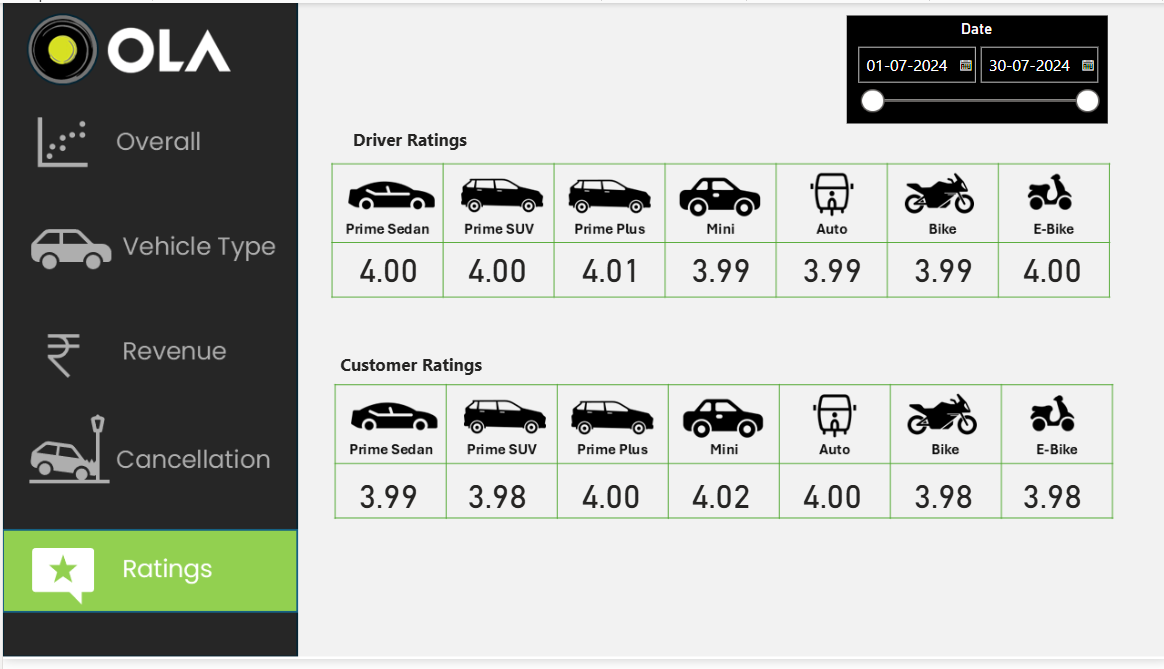

Layout of this report page (visuals, bound fields, positions):
{"tool":"powerbi","page":{"name":"Ratings","canvas":[1280,720],"ordinal":4},"visuals":[{"type":"actionButton","box":[0,219.6,322.1,94.1],"z":0},{"type":"actionButton","box":[0,331.8,322.1,94.1],"z":1000},{"type":"actionButton","box":[0,445.2,322.1,94.1],"z":2000},{"type":"actionButton","box":[0,103.8,322.1,94.1],"z":3000},{"type":"card","fields":{"Values":["Avg(Bookings.Driver_Ratings)"]},"box":[376,266.2,94.7,48],"z":4000},{"type":"card","fields":{"Values":["Avg(Bookings.Driver_Ratings)"]},"box":[495.4,266.2,94.7,48],"z":5000},{"type":"card","fields":{"Values":["Avg(Bookings.Driver_Ratings)"]},"box":[620.2,266.2,94.7,48],"z":6000},{"type":"card","fields":{"Values":["Avg(Bookings.Driver_Ratings)"]},"box":[741,266.2,94.7,48],"z":7000},{"type":"card","fields":{"Values":["Avg(Bookings.Driver_Ratings)"]},"box":[863.1,266.2,94.7,48],"z":7001},{"type":"card","fields":{"Values":["Avg(Bookings.Driver_Ratings)"]},"box":[985.3,266.2,94.7,48],"z":7002},{"type":"card","fields":{"Values":["Avg(Bookings.Driver_Ratings)"]},"box":[1104.6,266.2,94.7,48],"z":7003},{"type":"textbox","box":[359.5,131.7,174.3,38.4],"z":7004},{"type":"textbox","box":[360.9,378.7,174.3,38.4],"z":7005},{"type":"card","fields":{"Values":["Avg(Bookings.Customer_Rating)"]},"box":[376,514.6,94.7,48],"z":7006},{"type":"card","fields":{"Values":["Avg(Bookings.Customer_Rating)"]},"box":[495.4,514.6,94.7,48],"z":7007},{"type":"card","fields":{"Values":["Avg(Bookings.Customer_Rating)"]},"box":[620.2,514.6,94.7,48],"z":7008},{"type":"card","fields":{"Values":["Avg(Bookings.Customer_Rating)"]},"box":[741,514.6,94.7,48],"z":7009},{"type":"card","fields":{"Values":["Avg(Bookings.Customer_Rating)"]},"box":[863.1,514.6,94.7,48],"z":7010},{"type":"card","fields":{"Values":["Avg(Bookings.Customer_Rating)"]},"box":[985.3,514.6,94.7,48],"z":7011},{"type":"card","fields":{"Values":["Avg(Bookings.Customer_Rating)"]},"box":[1104.6,514.6,94.7,48],"z":7012},{"type":"slicer","title":"Date","fields":{"Values":["Bookings.Date"]},"box":[926.2,13.7,285.4,118],"z":7013}]}

Visuals, with their boxes in screenshot pixels (x1, y1, x2, y2), scaled from the page's 1280x720 canvas onto the 1164x669 screenshot:
actionButton: [left=0, top=204, right=293, bottom=291]
actionButton: [left=0, top=308, right=293, bottom=396]
actionButton: [left=0, top=414, right=293, bottom=501]
actionButton: [left=0, top=96, right=293, bottom=184]
card - Avg(Bookings.Driver_Ratings): [left=342, top=247, right=428, bottom=292]
card - Avg(Bookings.Driver_Ratings): [left=451, top=247, right=537, bottom=292]
card - Avg(Bookings.Driver_Ratings): [left=564, top=247, right=650, bottom=292]
card - Avg(Bookings.Driver_Ratings): [left=674, top=247, right=760, bottom=292]
card - Avg(Bookings.Driver_Ratings): [left=785, top=247, right=871, bottom=292]
card - Avg(Bookings.Driver_Ratings): [left=896, top=247, right=982, bottom=292]
card - Avg(Bookings.Driver_Ratings): [left=1004, top=247, right=1091, bottom=292]
textbox: [left=327, top=122, right=485, bottom=158]
textbox: [left=328, top=352, right=487, bottom=388]
card - Avg(Bookings.Customer_Rating): [left=342, top=478, right=428, bottom=523]
card - Avg(Bookings.Customer_Rating): [left=451, top=478, right=537, bottom=523]
card - Avg(Bookings.Customer_Rating): [left=564, top=478, right=650, bottom=523]
card - Avg(Bookings.Customer_Rating): [left=674, top=478, right=760, bottom=523]
card - Avg(Bookings.Customer_Rating): [left=785, top=478, right=871, bottom=523]
card - Avg(Bookings.Customer_Rating): [left=896, top=478, right=982, bottom=523]
card - Avg(Bookings.Customer_Rating): [left=1004, top=478, right=1091, bottom=523]
"Date" slicer: [left=842, top=13, right=1102, bottom=122]
